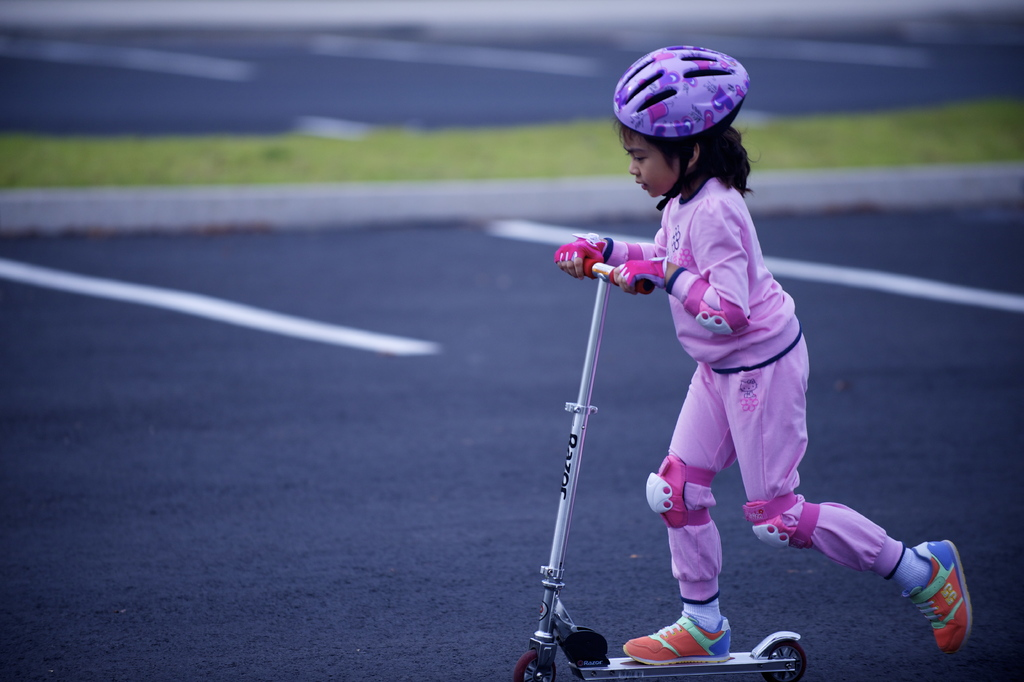Person: (552, 43, 974, 668)
